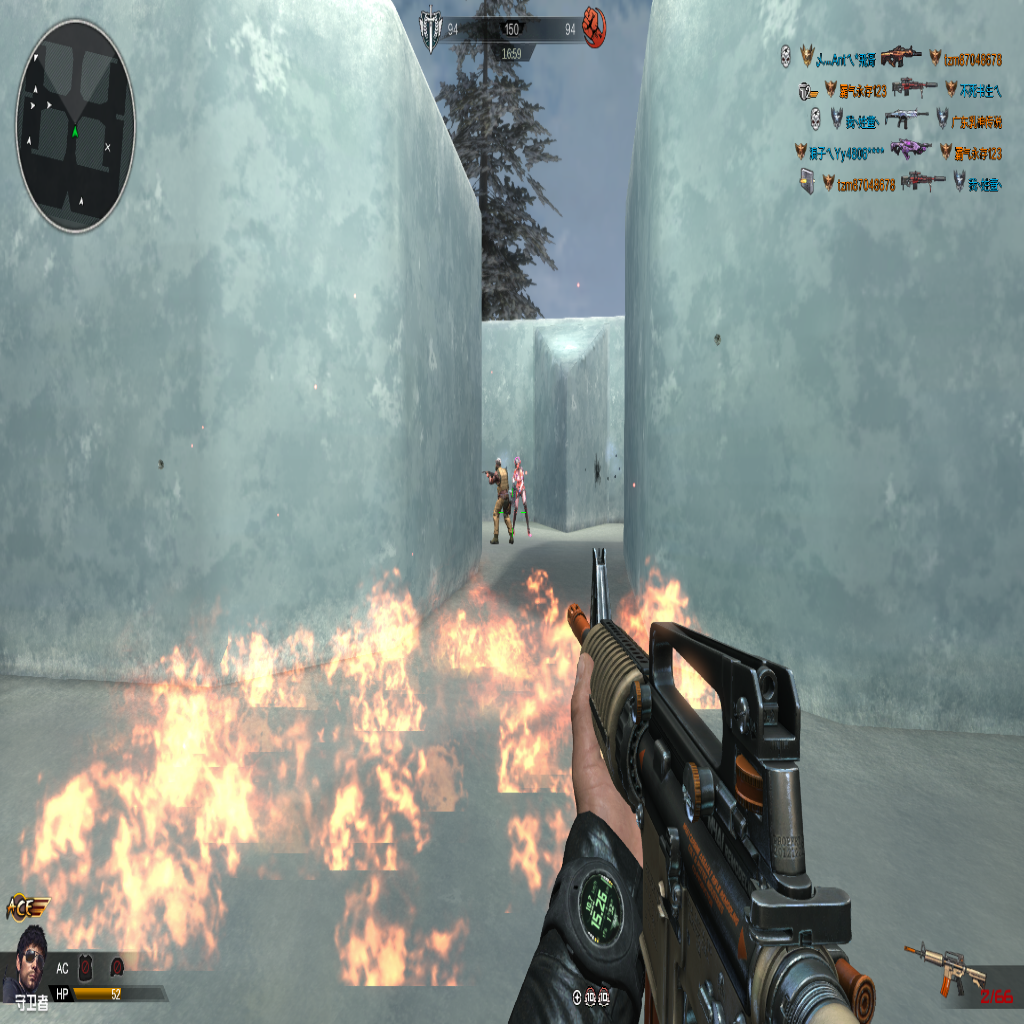tt: (482, 455, 517, 543), (508, 454, 532, 540)
